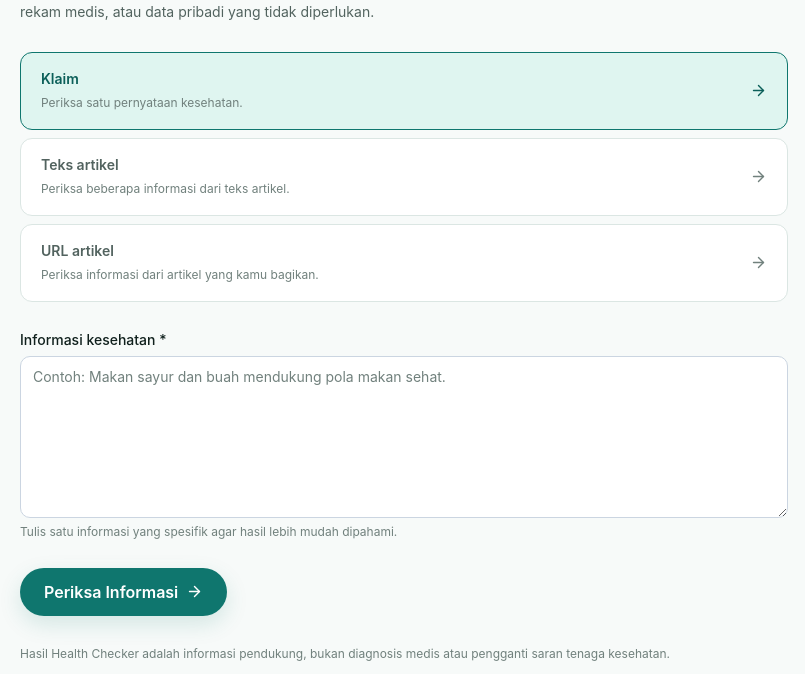
Test: rejects an API response whose claim does not match the submitted claim
(page scrolled)
In the text box labelled "Informasi kesehatan": (404, 437) [20, 356, 788, 518], type "mengonsumsi makanan atau minuman manis setiap hari dapat menyebabkan diabetes"
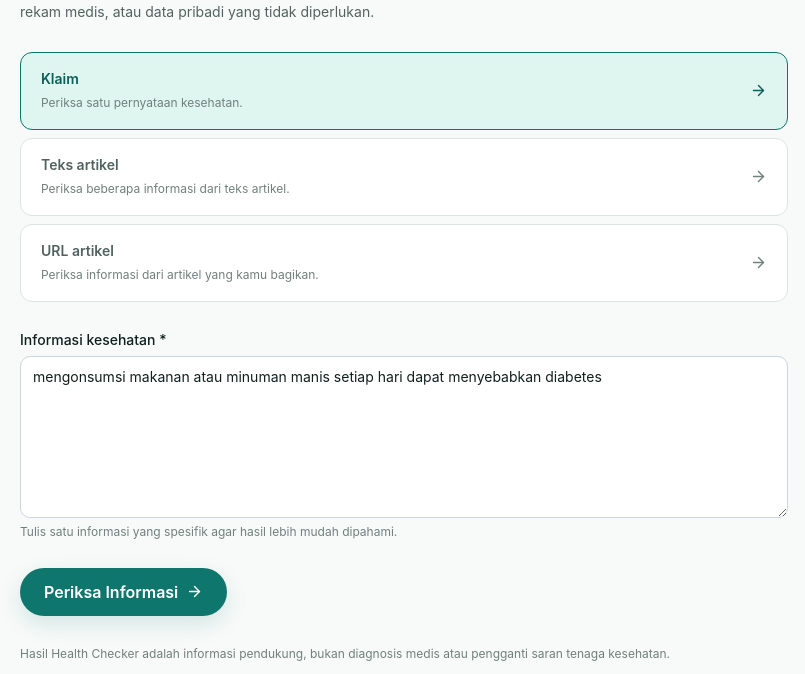
Click the button "Periksa Informasi": (124, 592) [20, 568, 227, 616]
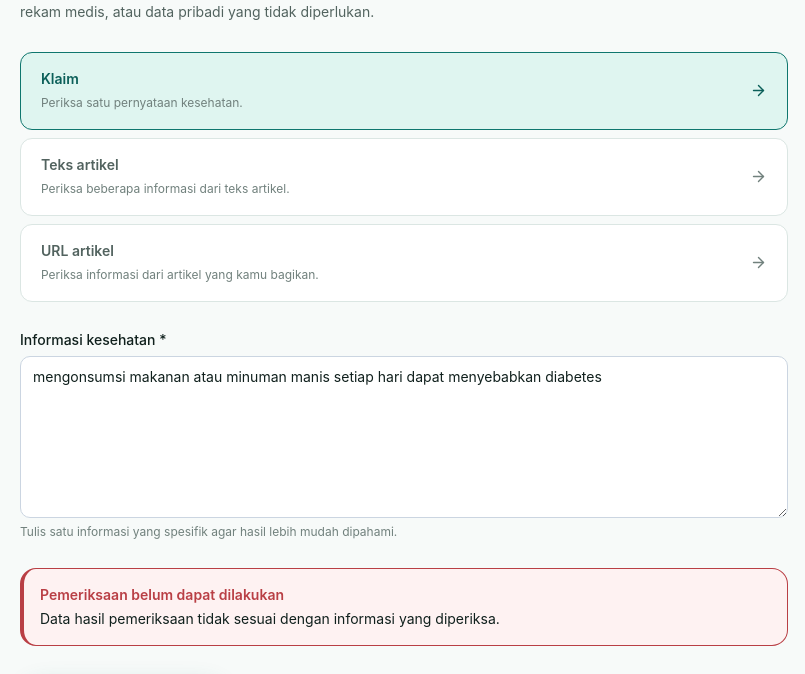
Expected: the text "Data hasil pemeriksaan tidak sesuai" is shown, [40, 610, 500, 627]
